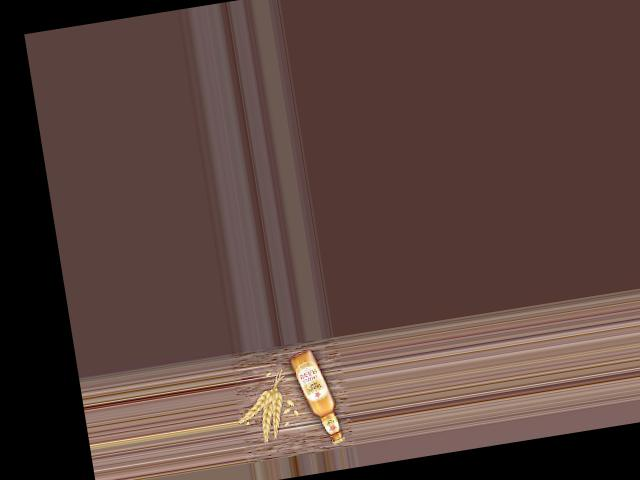beer: (288, 346, 346, 449)
